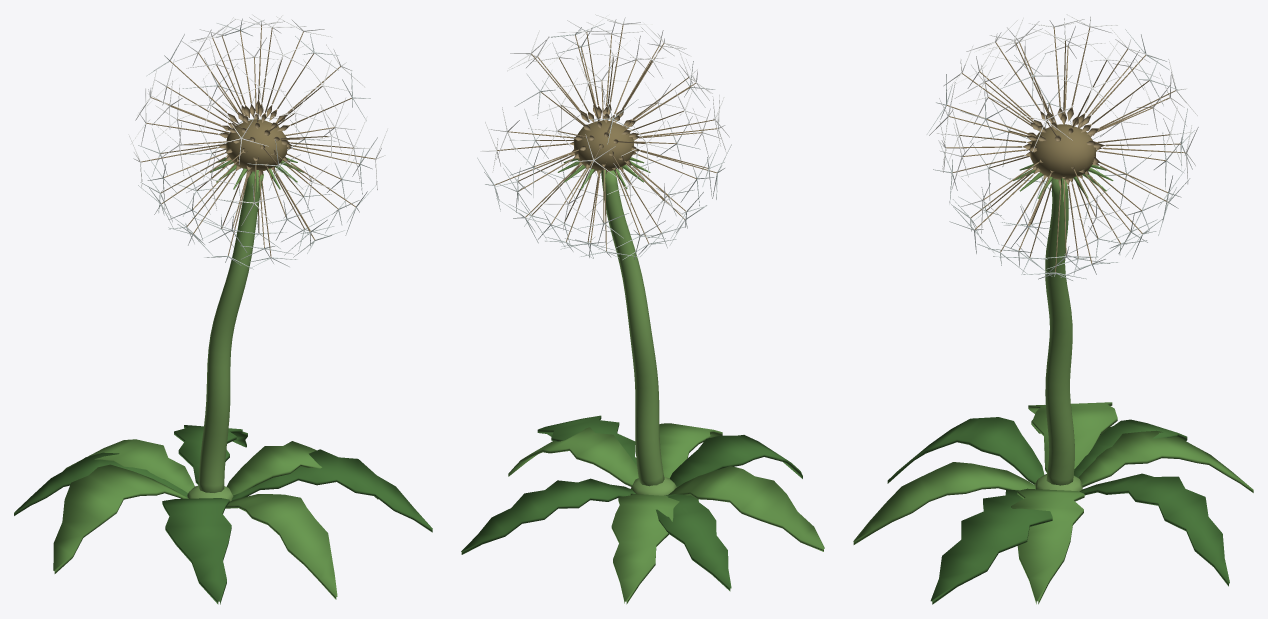
The model's file is giant_dandelion_lod2.glb.
The picture shows the model from 3 angles, left to right: view 1: azimuth 30°, elevation 25°; view 2: azimuth 150°, elevation 25°; view 3: azimuth 270°, elevation 25°; orthographic projection. The views are drawn at different scales.
Visible parts, largest first — view 1: RosetteLeaves_LOD2, AttachedSeedsAndPappus_LOD2, Scape_LOD2, SeedHeadCore_LOD2; view 2: RosetteLeaves_LOD2, AttachedSeedsAndPappus_LOD2, Scape_LOD2, SeedHeadCore_LOD2; view 3: RosetteLeaves_LOD2, AttachedSeedsAndPappus_LOD2, Scape_LOD2, SeedHeadCore_LOD2.
Boxes of the visible parts, x1,y1,x2,y2 form: RosetteLeaves_LOD2: [14, 425, 432, 604]; AttachedSeedsAndPappus_LOD2: [128, 14, 388, 269]; Scape_LOD2: [187, 171, 263, 501]; SeedHeadCore_LOD2: [210, 119, 303, 191]; RosetteLeaves_LOD2: [461, 415, 824, 604]; AttachedSeedsAndPappus_LOD2: [477, 14, 731, 259]; Scape_LOD2: [601, 170, 676, 495]; SeedHeadCore_LOD2: [557, 120, 650, 191]; RosetteLeaves_LOD2: [853, 402, 1253, 604]; AttachedSeedsAndPappus_LOD2: [927, 14, 1198, 280]; Scape_LOD2: [1035, 178, 1082, 491]; SeedHeadCore_LOD2: [1013, 124, 1113, 201].
Bounding box in the file's own units: 7.42 × 10.78 × 7.36.
